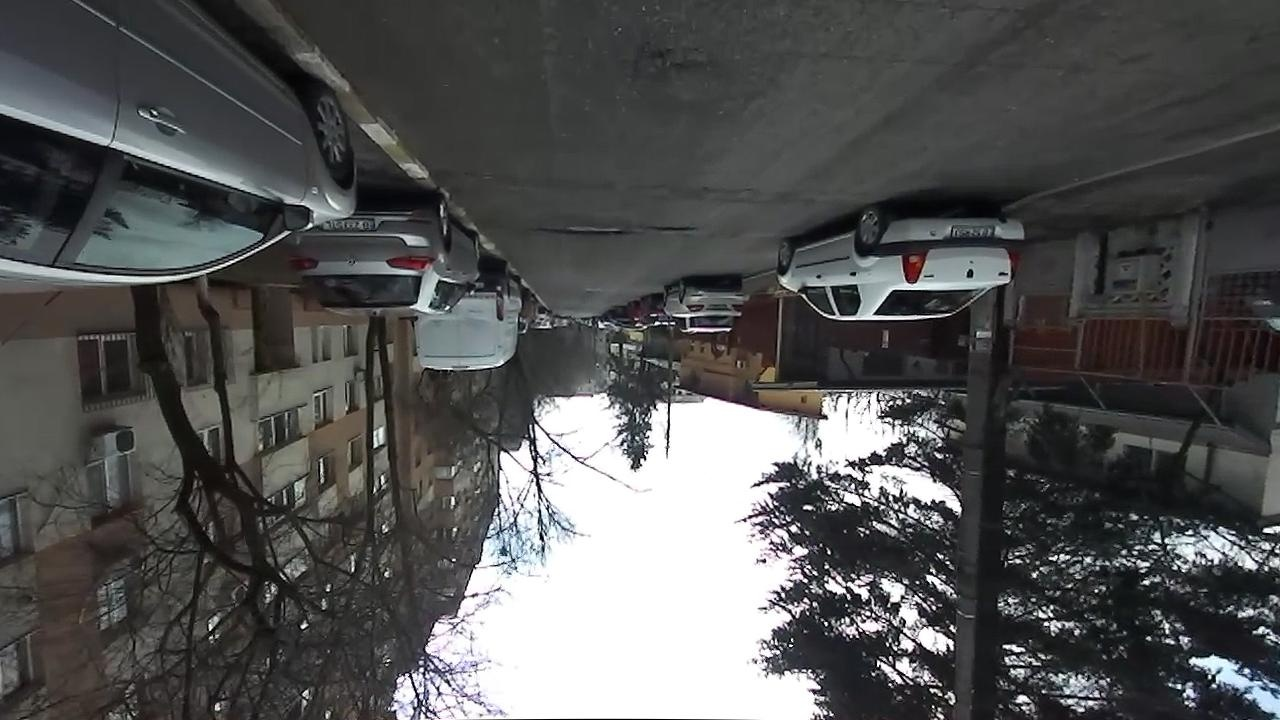pothole: (531, 219, 631, 238), (639, 42, 692, 73), (643, 221, 698, 234)
